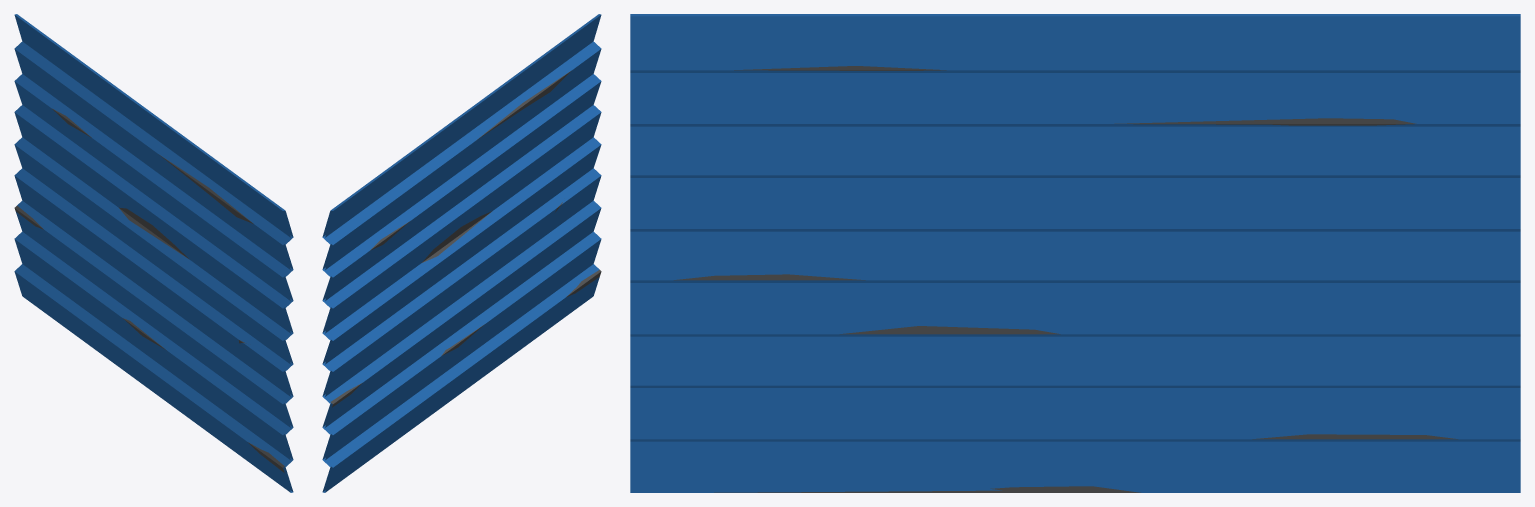
File: builder_36.FBX
The picture shows the model from 3 angles, left to right: view 1: azimuth 30°, elevation 25°; view 2: azimuth 150°, elevation 25°; view 3: azimuth 270°, elevation 25°; orthographic projection. The views are drawn at different scales.
Parts seen in each view (by area): view 1: builder_36; view 2: builder_36; view 3: builder_36.
Boxes of the visible parts, bbox=[...] form: builder_36: bbox=[14, 14, 293, 492]; builder_36: bbox=[322, 14, 601, 492]; builder_36: bbox=[630, 14, 1520, 492].
Bounding box in the file's own units: 2.79 × 71.88 × 123.
